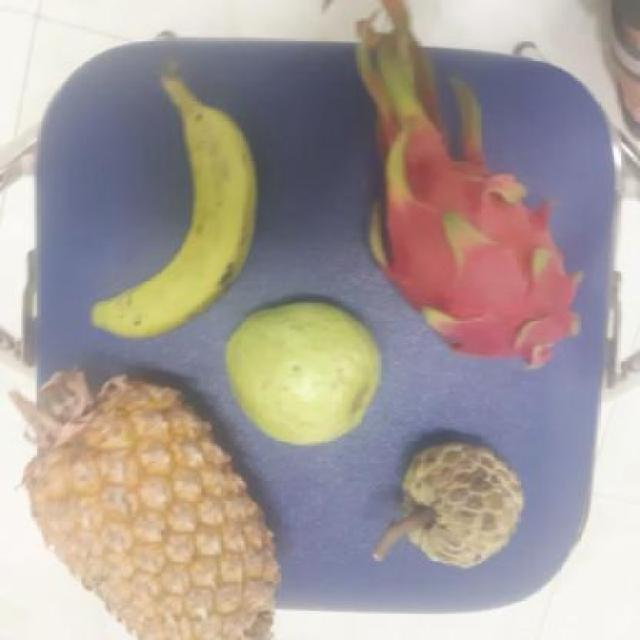banana: (95, 108, 256, 334)
dragon fruit: (363, 125, 592, 367)
guava: (225, 306, 388, 446)
pineapple: (36, 363, 290, 639)
sugar apple: (398, 438, 528, 567)
